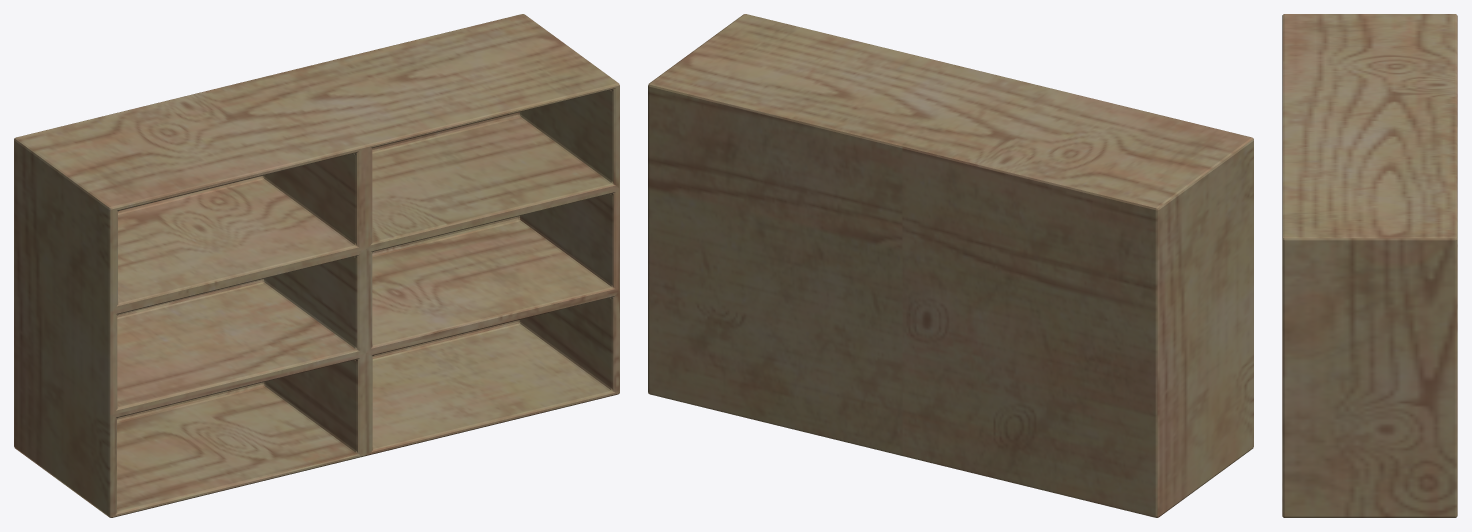
The model's file is _tag_res_002.fbx.
3 renders of one model, left to right at view 1: azimuth 30°, elevation 25°; view 2: azimuth 150°, elevation 25°; view 3: azimuth 270°, elevation 25°, orthographic. The views are drawn at different scales.
Visible parts, largest first — view 1: étagères.002; view 2: étagères.002; view 3: étagères.002.
Boxes of the visible parts, left/top/right/bottom form: étagères.002: left=14, top=14, right=619, bottom=517; étagères.002: left=648, top=14, right=1253, bottom=517; étagères.002: left=1282, top=14, right=1457, bottom=517.
Bounding box in the file's own units: 143 × 82.94 × 46.93.
